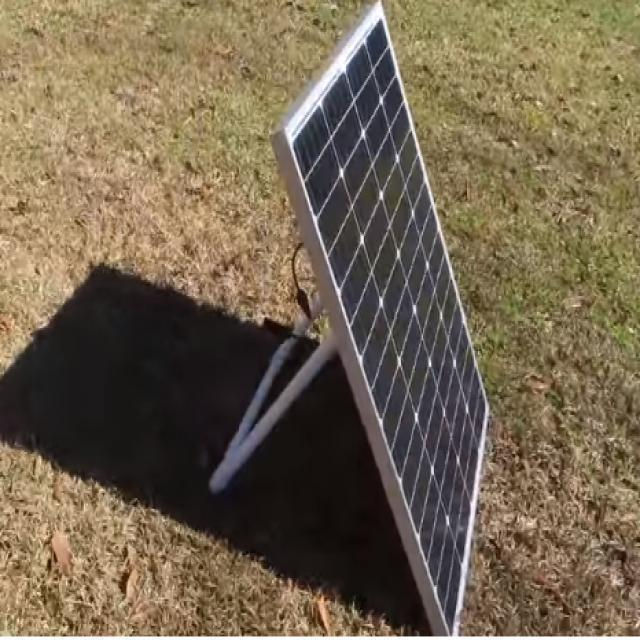Normal Solar Panel: (273, 4, 489, 636)
